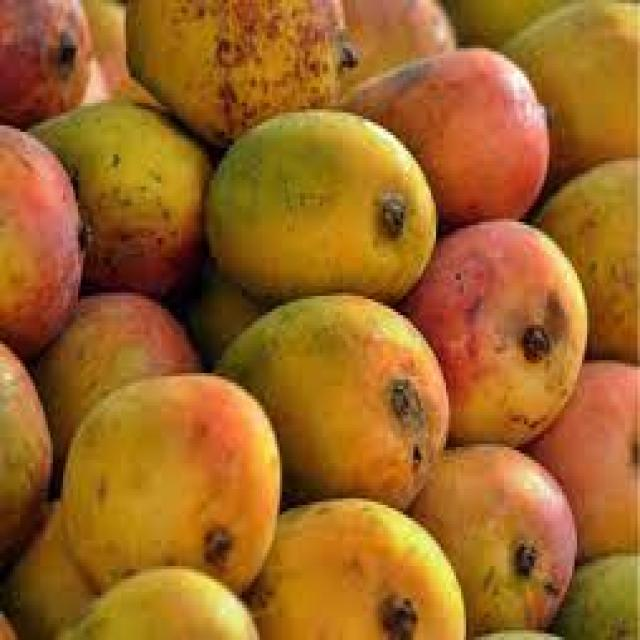mango: (202, 113, 436, 312)
